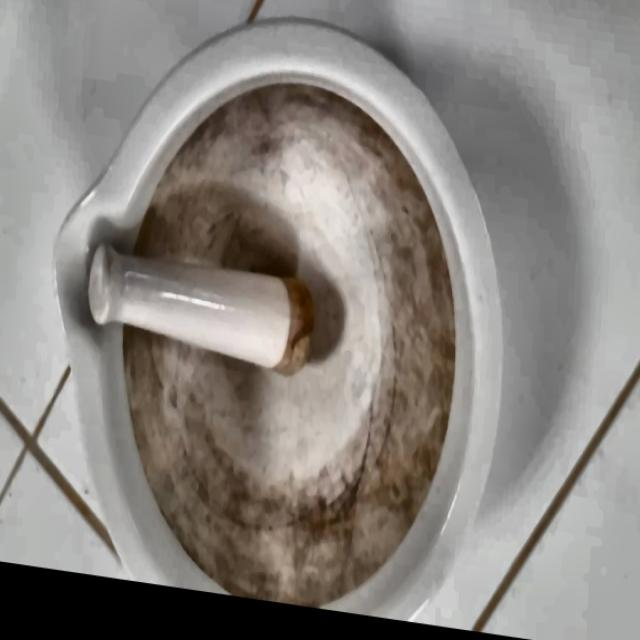Mortar and Pestle: (37, 0, 525, 631)
